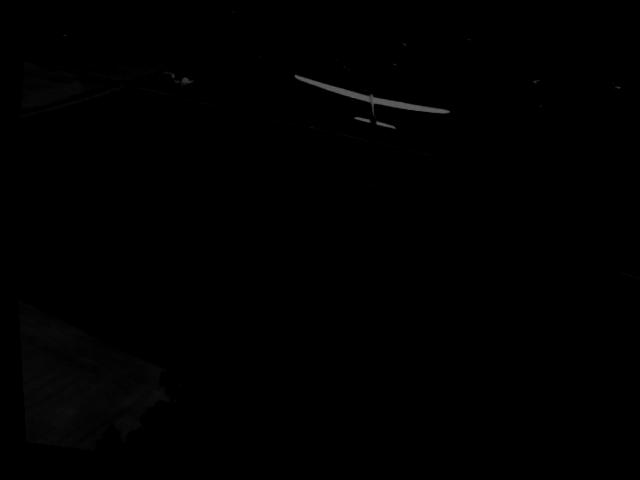hedef: (282, 63, 468, 150)
